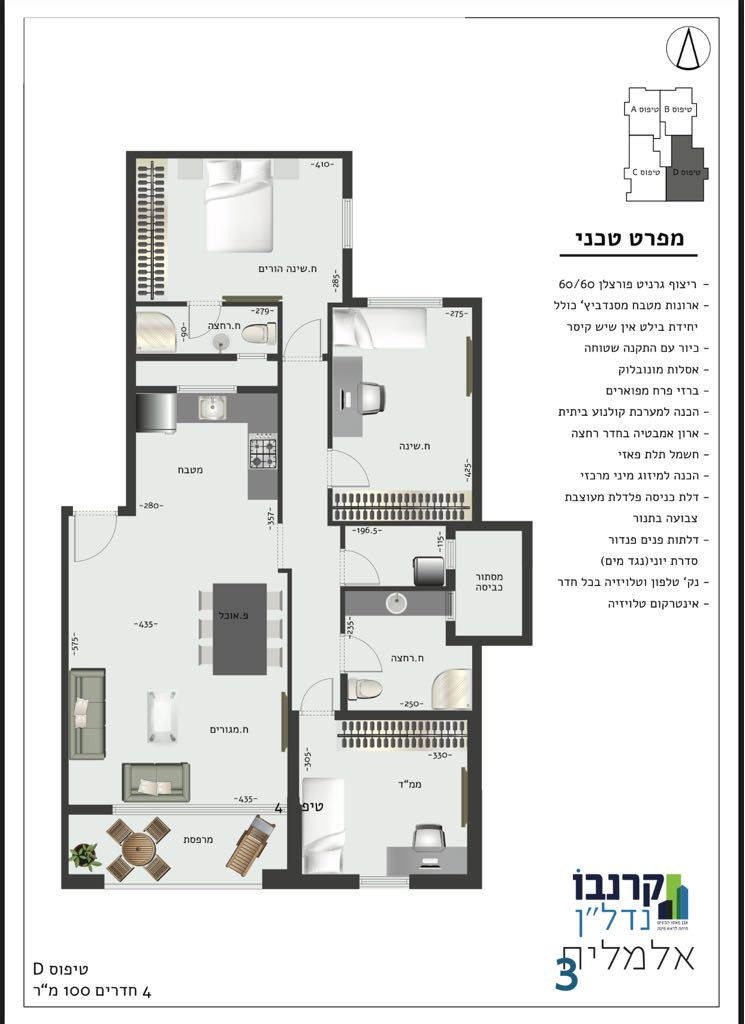door: (70, 516, 120, 562), (347, 630, 388, 674), (296, 664, 337, 708), (333, 448, 373, 489), (345, 544, 385, 585), (284, 316, 324, 352), (183, 307, 223, 343)
wall: (126, 150, 135, 516), (61, 506, 69, 888), (472, 645, 482, 873), (522, 521, 533, 645), (135, 151, 352, 157), (409, 873, 482, 889), (302, 874, 359, 889)
